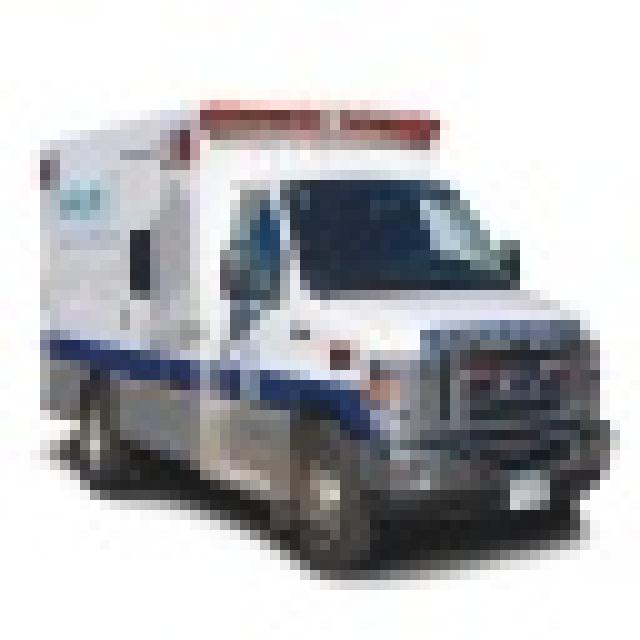Ambulance: (30, 90, 610, 560)
